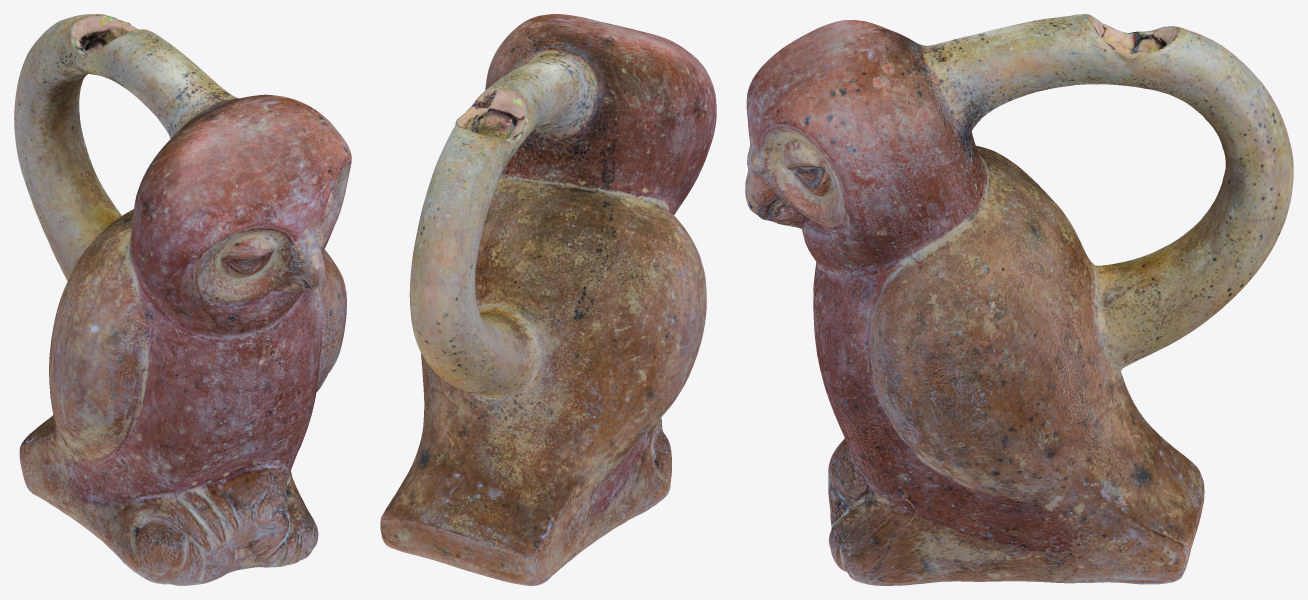
Rendered from botella_escultorica_de_ceramica_de_estilo_moche.glb.
The picture shows the model from 3 angles, left to right: view 1: azimuth 30°, elevation 25°; view 2: azimuth 150°, elevation 25°; view 3: azimuth 270°, elevation 25°; orthographic projection. The views are drawn at different scales.
Parts seen in each view (by area): view 1: Model; view 2: Model; view 3: Model.
Part boxes in pixels (bbox=[...]): Model: bbox=[14, 14, 351, 585]; Model: bbox=[380, 14, 716, 585]; Model: bbox=[745, 14, 1293, 585].
Size of the model in its own units: 1.84 by 3.08 by 2.9.
1 material, 1 textured.
